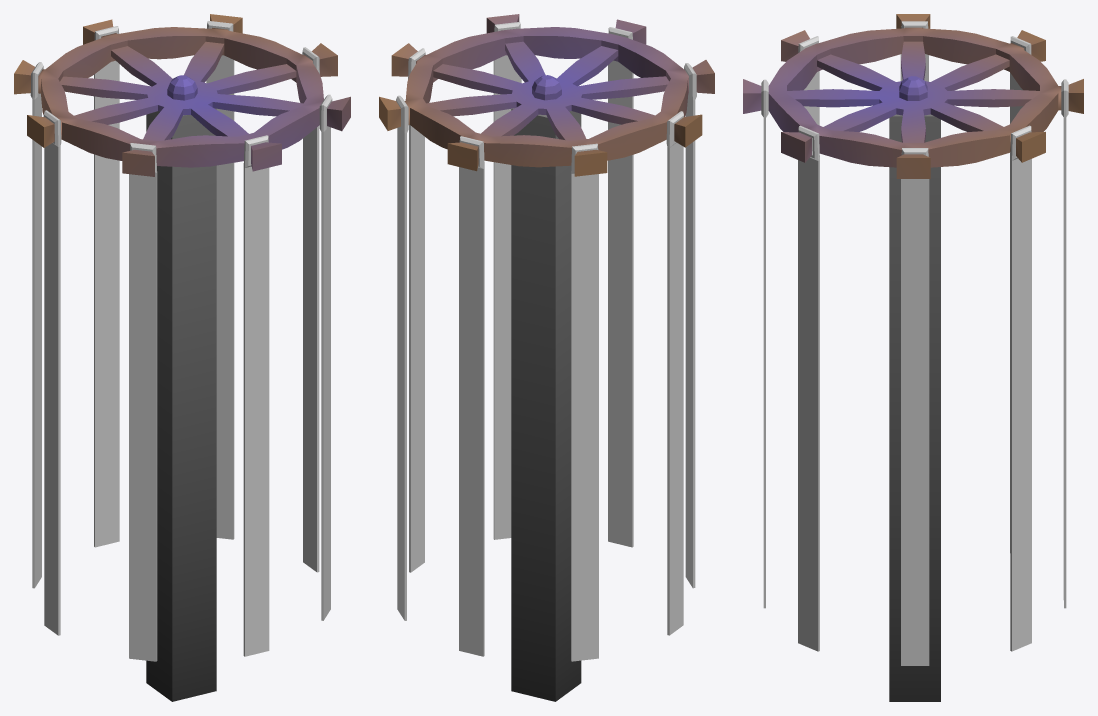
Rendered from pilum.fbx.
The picture shows the model from 3 angles, left to right: view 1: azimuth 30°, elevation 25°; view 2: azimuth 150°, elevation 25°; view 3: azimuth 270°, elevation 25°; orthographic projection.
Parts seen in each view (by area): view 1: Pillarm; view 2: Pillarm; view 3: Pillarm.
Part boxes in pixels (x1,y1,x2,y2): Pillarm: [14, 14, 350, 701]; Pillarm: [379, 14, 714, 701]; Pillarm: [743, 14, 1083, 701].
Size of the model in its own units: 127 by 251 by 127.
